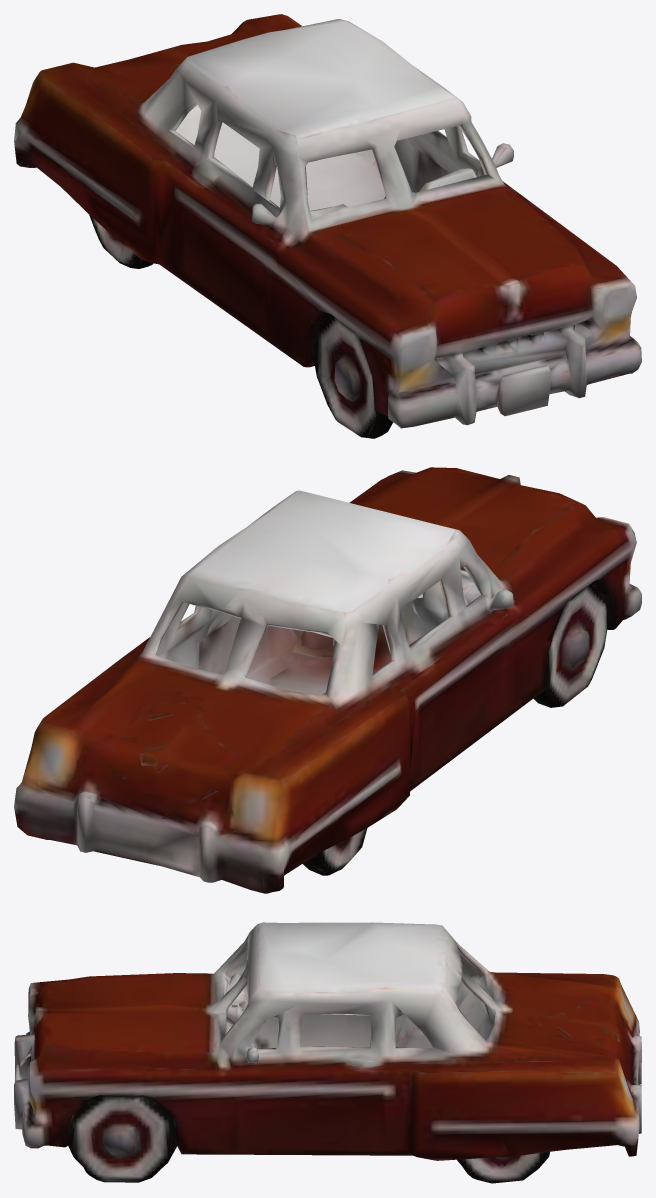
The model's file is blueCar.glb.
3 renders of one model, top to bottom at view 1: azimuth 30°, elevation 25°; view 2: azimuth 150°, elevation 25°; view 3: azimuth 270°, elevation 25°, orthographic. The views are drawn at different scales.
Visible parts, largest first — view 1: material; view 2: material; view 3: material.
Part boxes in pixels (<box>): material: <box>14,14,641,438</box>; material: <box>14,467,641,893</box>; material: <box>14,922,641,1183</box>.
Bounding box in the file's own units: 0.4491 × 0.3747 × 1.12.
Materials: 1 (1 with a texture image).
